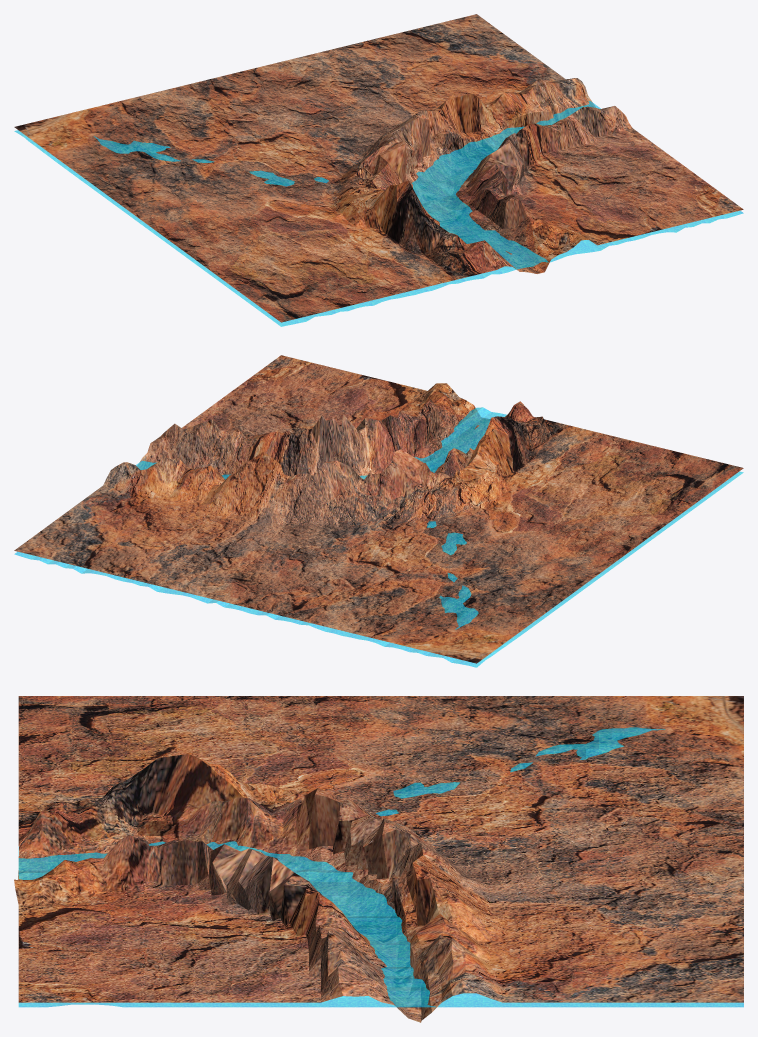
3 views of the same model, one above another, from view 1: azimuth 30°, elevation 25°; view 2: azimuth 150°, elevation 25°; view 3: azimuth 270°, elevation 25° (orthographic). The views are drawn at different scales.
Parts seen in each view (by area): view 1: Plane, Lava; view 2: Plane, Lava; view 3: Plane, Lava.
Boxes of the visible parts, <box> form: Plane: <box>14,14,743,322</box>; Lava: <box>14,101,743,326</box>; Plane: <box>14,355,743,663</box>; Lava: <box>14,407,743,667</box>; Plane: <box>14,696,743,1022</box>; Lava: <box>18,727,743,1007</box>.
Bounding box in the file's own units: 5037 × 730 × 5033.
Materials: 2 (2 with a texture image).
